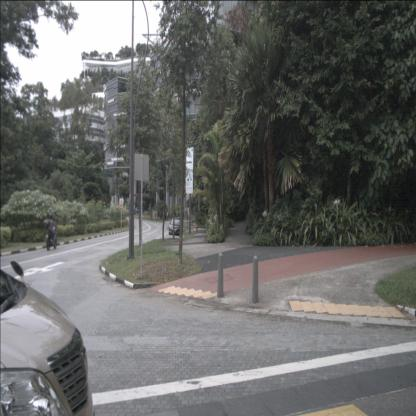human-pedestrian-adult: (166, 212, 168, 221)
vehicle-car: (0, 259, 94, 415), (169, 216, 182, 236)
vehicle-motorcycle: (42, 214, 57, 251)
